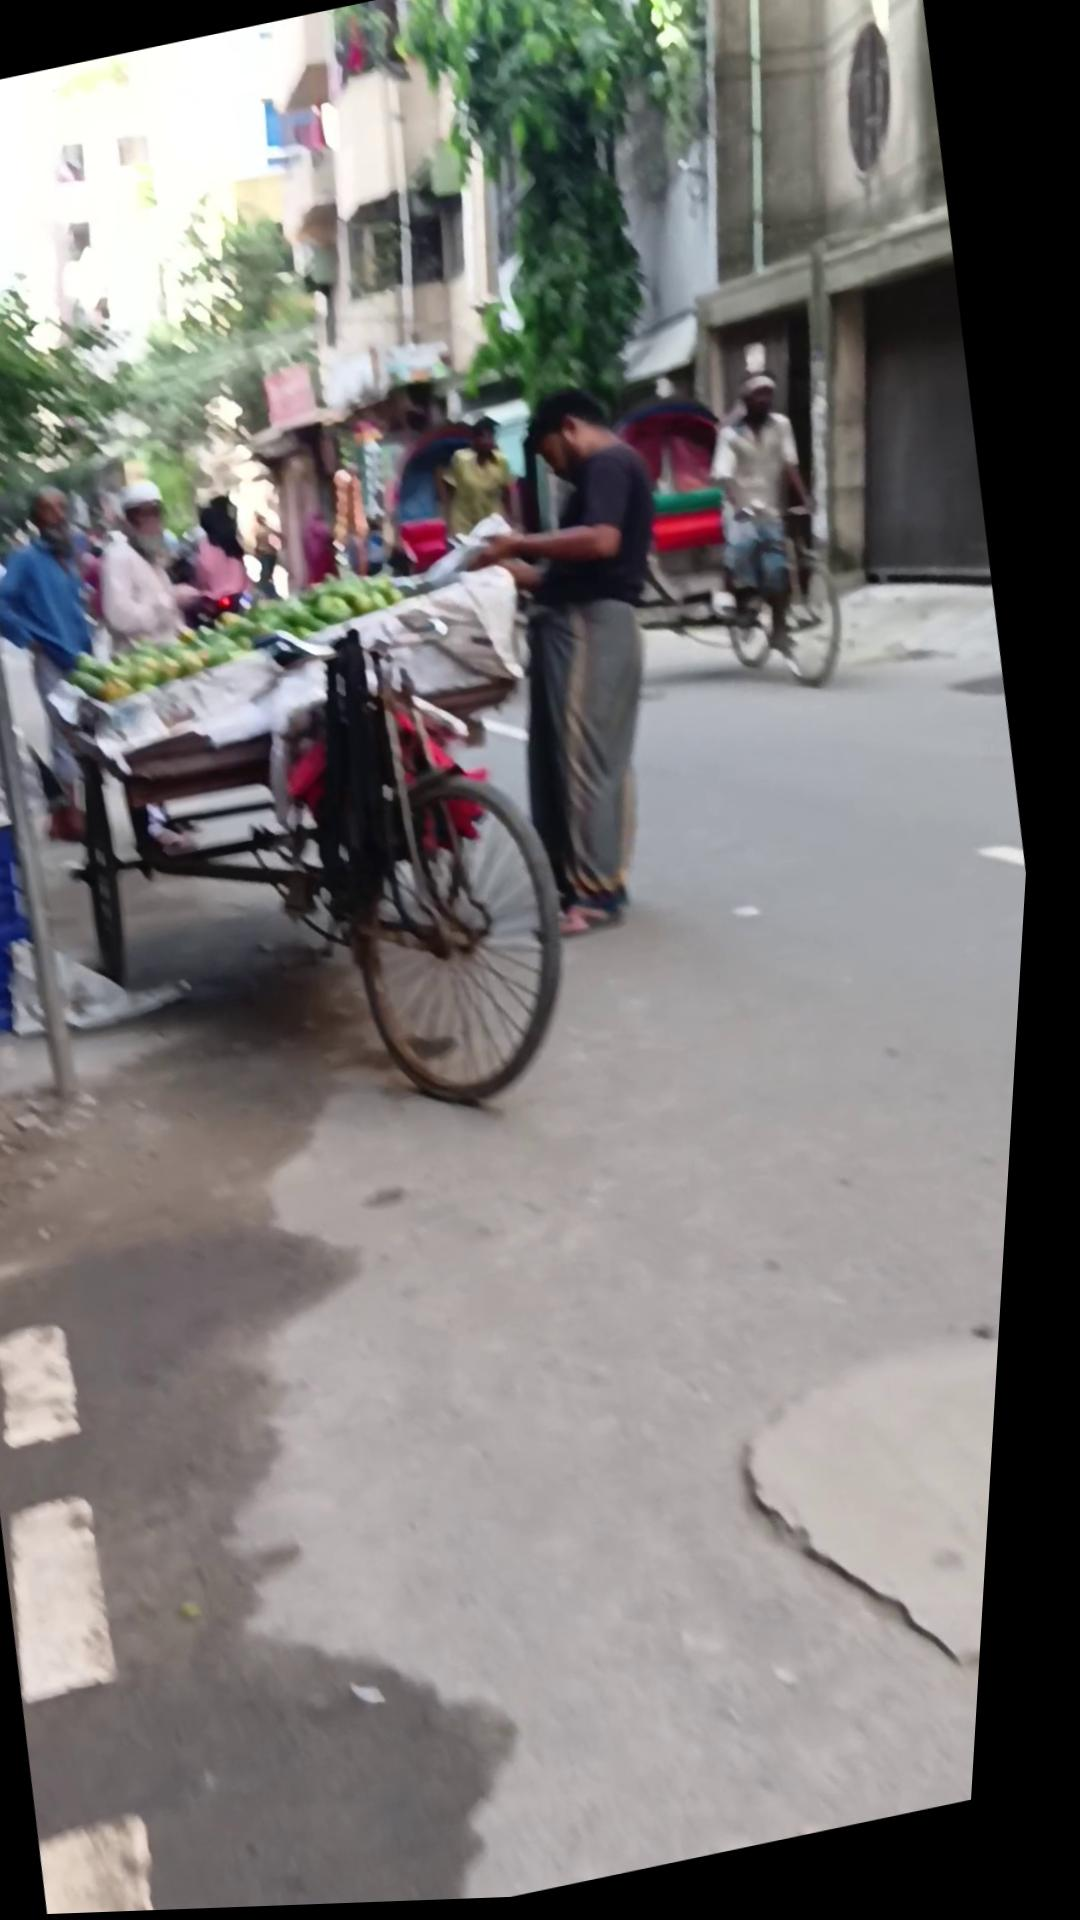Bench: (744, 1407, 994, 1713)
Curb: (427, 373, 741, 957), (690, 369, 852, 667)
Dog: (0, 525, 121, 1109)
Fence: (17, 550, 624, 1189)
Garbage: (0, 753, 1043, 1920)
Obstacle: (613, 0, 1027, 649)
